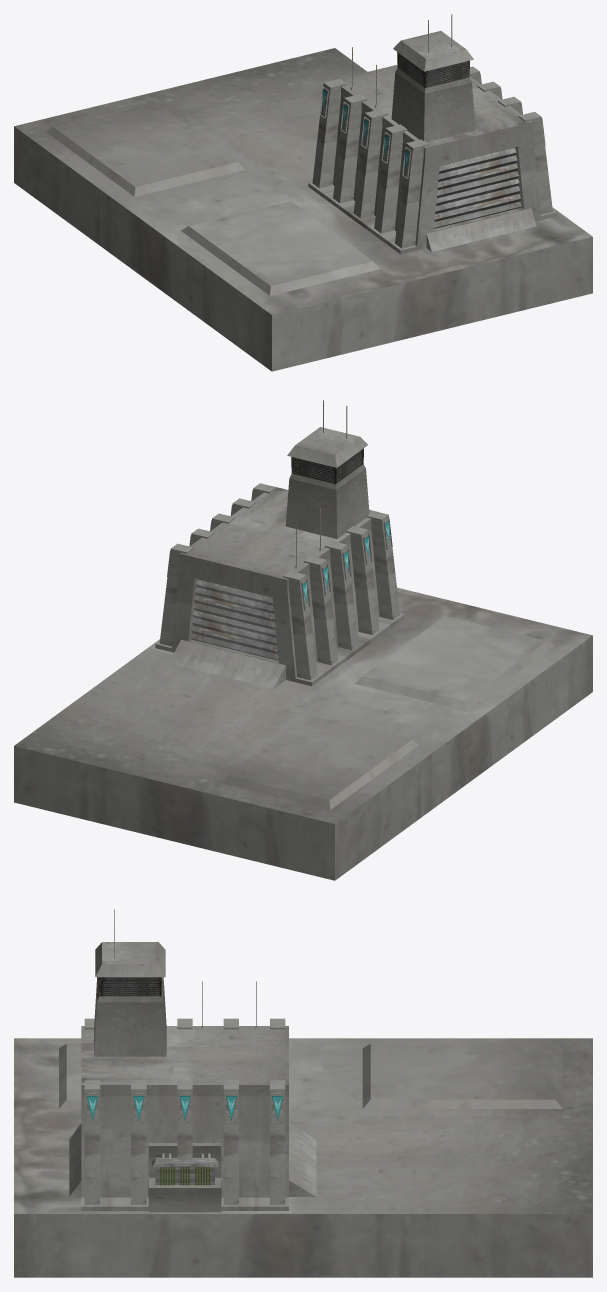
File: hangar.dae
3 renders of one model, top to bottom at view 1: azimuth 30°, elevation 25°; view 2: azimuth 150°, elevation 25°; view 3: azimuth 270°, elevation 25°, orthographic. The views are drawn at different scales.
Visible parts, largest first — view 1: mecanic_eng; view 2: mecanic_eng; view 3: mecanic_eng.
Part boxes in pixels (<box>): mecanic_eng: <box>14,14,592,371</box>; mecanic_eng: <box>14,400,592,880</box>; mecanic_eng: <box>14,909,592,1277</box>.
Size of the model in its own units: 31.82 by 44.29 by 25.54.
